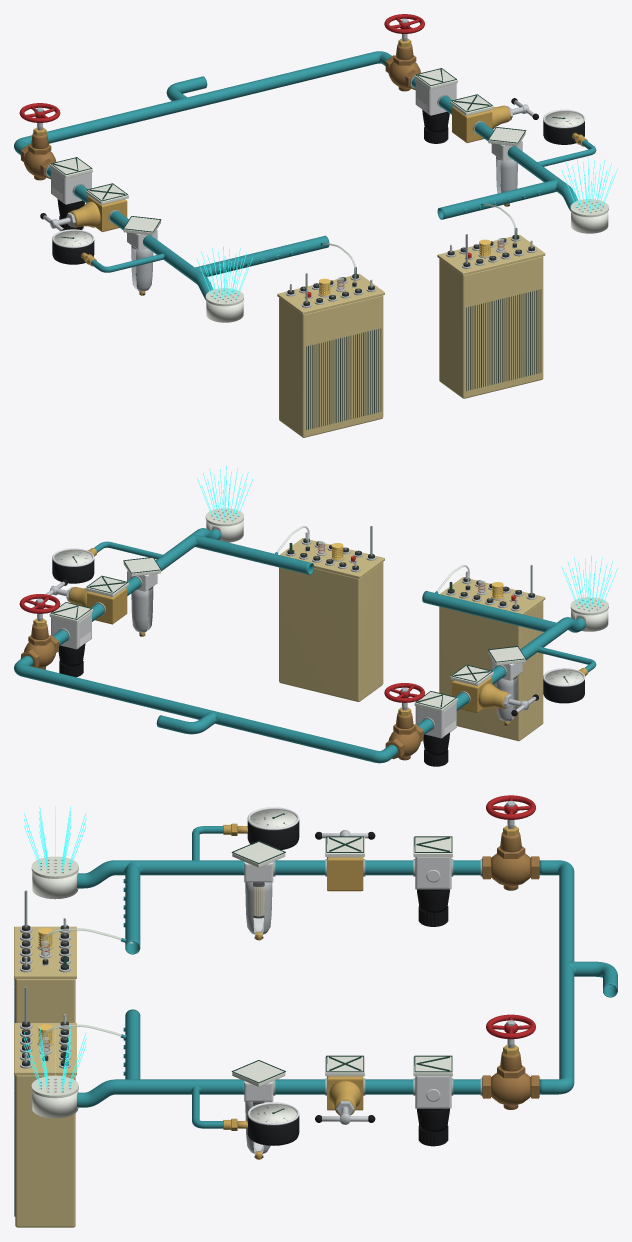
File: assembled-battery-agitation.glb
3 views of the same model, one above another, from view 1: azimuth 30°, elevation 25°; view 2: azimuth 150°, elevation 25°; view 3: azimuth 270°, elevation 25° (orthographic). The views are drawn at different scales.
Visible parts, largest first — view 1: Battery tall case | estimated 380x200x560 mm.003, Battery tall case | estimated 380x200x560 mm.001, MERGED CONTINUOUS HOLLOW PIPE NETWORK, Top lid.001, Top lid.003, STBD hand reducer | original model / body, STBD automatic reducer | original model / body, Port automatic reducer | original model / body, Port PG | original gauge facing up / body.002, Port safety mounting plenum, STBD PG | original gauge facing up / body.002, STBD safety mounting plenum (+5 smaller); view 2: MERGED CONTINUOUS HOLLOW PIPE NETWORK, Battery tall case | estimated 380x200x560 mm.003, Battery tall case | estimated 380x200x560 mm.001, Top lid.003, Top lid.001, STBD hand reducer | original model / body, Port automatic reducer | original model / body, STBD automatic reducer | original model / body, Port PG | original gauge facing up / body.002, STBD PG | original gauge facing up / body.002, STBD filter | original rendered model / body.005, Port hand reducer | original model / body (+20 smaller); view 3: MERGED CONTINUOUS HOLLOW PIPE NETWORK, Battery tall case | estimated 380x200x560 mm.003, Battery tall case | estimated 380x200x560 mm.001, Top lid.001, Top lid.003, Port hand reducer | original model / body, STBD automatic reducer | original model / body, Port automatic reducer | original model / body, STBD PG | original gauge facing up / body.002, STBD shut-off | original rendered model / body.002, Port shut-off | original rendered model / body.002, Port PG | original gauge facing up / body.002 (+17 smaller).
Boxes of the visible parts, bbox=[...] form: Battery tall case | estimated 380x200x560 mm.003: bbox=[439, 256, 543, 398]; Battery tall case | estimated 380x200x560 mm.001: bbox=[279, 295, 383, 437]; MERGED CONTINUOUS HOLLOW PIPE NETWORK: bbox=[14, 51, 596, 300]; Top lid.001: bbox=[277, 274, 384, 314]; Top lid.003: bbox=[437, 234, 545, 275]; STBD hand reducer | original model / body: bbox=[452, 106, 492, 142]; STBD automatic reducer | original model / body: bbox=[415, 79, 456, 115]; Port automatic reducer | original model / body: bbox=[51, 168, 91, 204]; Port PG | original gauge facing up / body.002: bbox=[52, 236, 94, 264]; Port safety mounting plenum: bbox=[206, 300, 243, 322]; STBD PG | original gauge facing up / body.002: bbox=[543, 116, 584, 144]; STBD safety mounting plenum: bbox=[571, 211, 608, 233]; MERGED CONTINUOUS HOLLOW PIPE NETWORK: bbox=[14, 528, 596, 763]; Battery tall case | estimated 380x200x560 mm.003: bbox=[279, 562, 383, 701]; Battery tall case | estimated 380x200x560 mm.001: bbox=[439, 601, 543, 741]; Top lid.003: bbox=[280, 538, 384, 578]; Top lid.001: bbox=[440, 577, 545, 614]; STBD hand reducer | original model / body: bbox=[87, 588, 127, 624]; Port automatic reducer | original model / body: bbox=[415, 702, 456, 738]; STBD automatic reducer | original model / body: bbox=[51, 613, 91, 649]; Port PG | original gauge facing up / body.002: bbox=[543, 674, 584, 703]; STBD PG | original gauge facing up / body.002: bbox=[52, 556, 94, 583]; STBD filter | original rendered model / body.005: bbox=[131, 589, 148, 632]; Port hand reducer | original model / body: bbox=[452, 677, 492, 713]; MERGED CONTINUOUS HOLLOW PIPE NETWORK: bbox=[77, 826, 617, 1128]; Battery tall case | estimated 380x200x560 mm.003: bbox=[15, 1075, 75, 1227]; Battery tall case | estimated 380x200x560 mm.001: bbox=[15, 979, 75, 1022]; Top lid.001: bbox=[14, 926, 76, 978]; Top lid.003: bbox=[14, 1023, 76, 1075]; Port hand reducer | original model / body: bbox=[327, 857, 363, 891]; STBD automatic reducer | original model / body: bbox=[415, 1076, 451, 1108]; Port automatic reducer | original model / body: bbox=[415, 857, 451, 889]; STBD PG | original gauge facing up / body.002: bbox=[247, 1110, 299, 1145]; STBD shut-off | original rendered model / body.002: bbox=[491, 1073, 530, 1105]; Port shut-off | original rendered model / body.002: bbox=[491, 853, 530, 885]; Port PG | original gauge facing up / body.002: bbox=[247, 820, 299, 849].
Size of the model in its own units: 2.48 by 0.8876 by 1.99.
